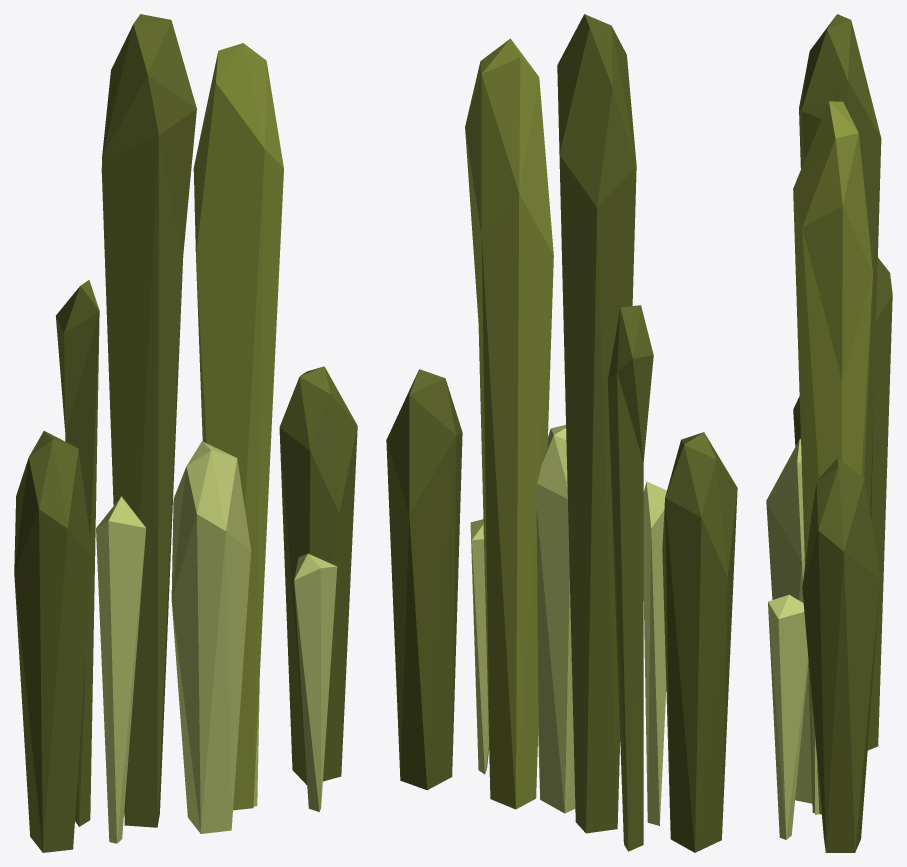
File: ea_swamp_grass_01e_pre__32__lev1.glb
3 renders of one model, left to right at view 1: azimuth 30°, elevation 25°; view 2: azimuth 150°, elevation 25°; view 3: azimuth 270°, elevation 25°, orthographic. The views are drawn at different scales.
Parts seen in each view (by area): view 1: ea_swamp_grass_01e_pre__32__lev1; view 2: ea_swamp_grass_01e_pre__32__lev1; view 3: ea_swamp_grass_01e_pre__32__lev1.
Part boxes in pixels (left/top/right/bottom): ea_swamp_grass_01e_pre__32__lev1: left=14, top=14, right=357, bottom=852; ea_swamp_grass_01e_pre__32__lev1: left=386, top=14, right=737, bottom=852; ea_swamp_grass_01e_pre__32__lev1: left=766, top=14, right=892, bottom=852.
Bounding box in the file's own units: 1.74 × 3.95 × 0.6008.
1 material, 1 textured.
